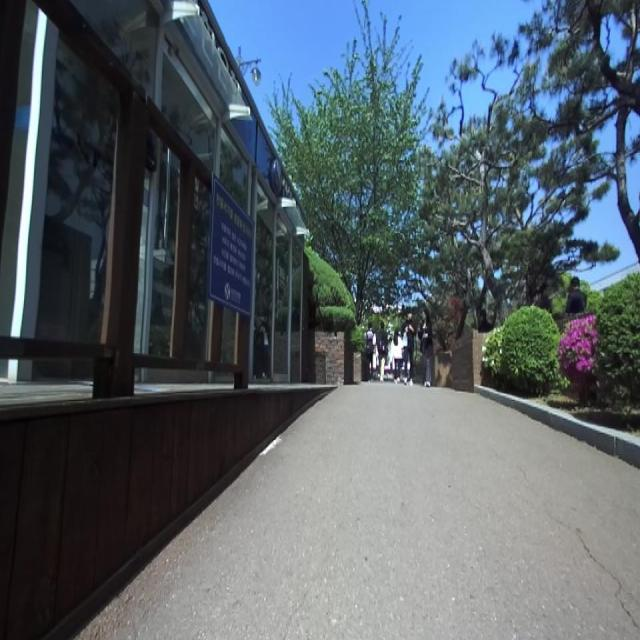sidewalk: (80, 381, 640, 639)
